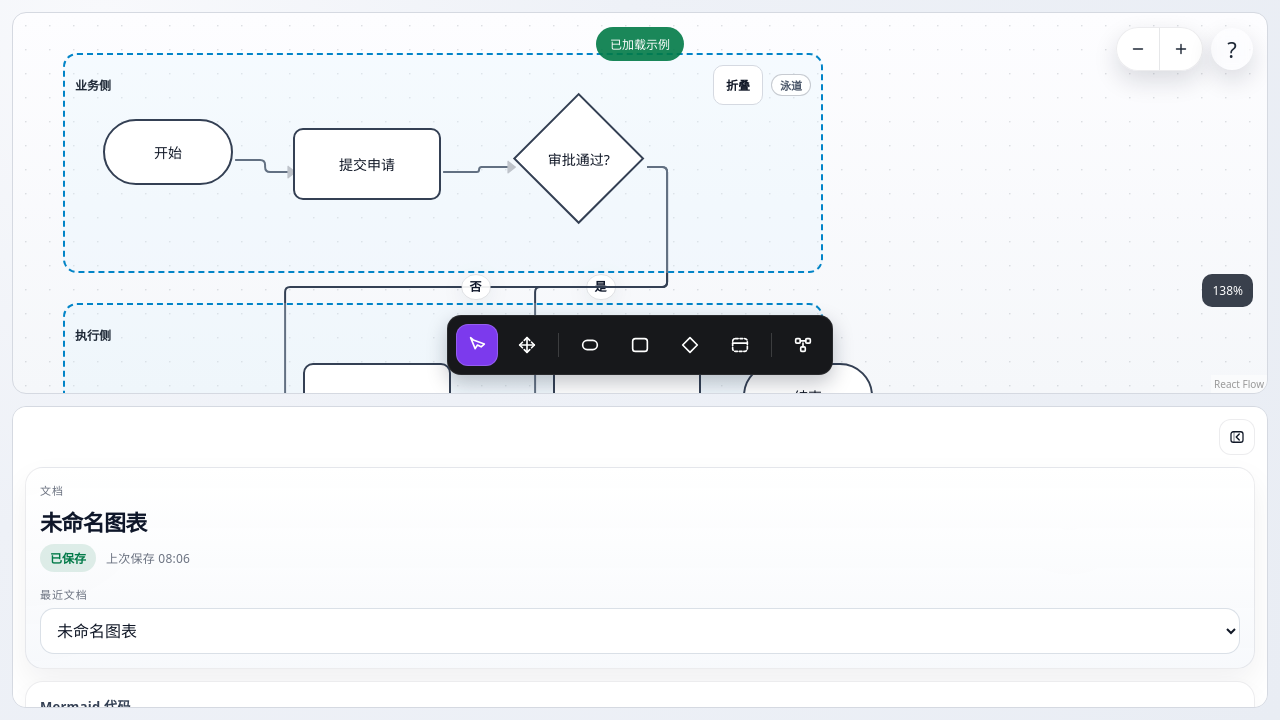
Test: App › arms swimlane drawing mode from the bottom toolbar
Click the button named "泳道" at (740, 345), box [719,324,761,366]
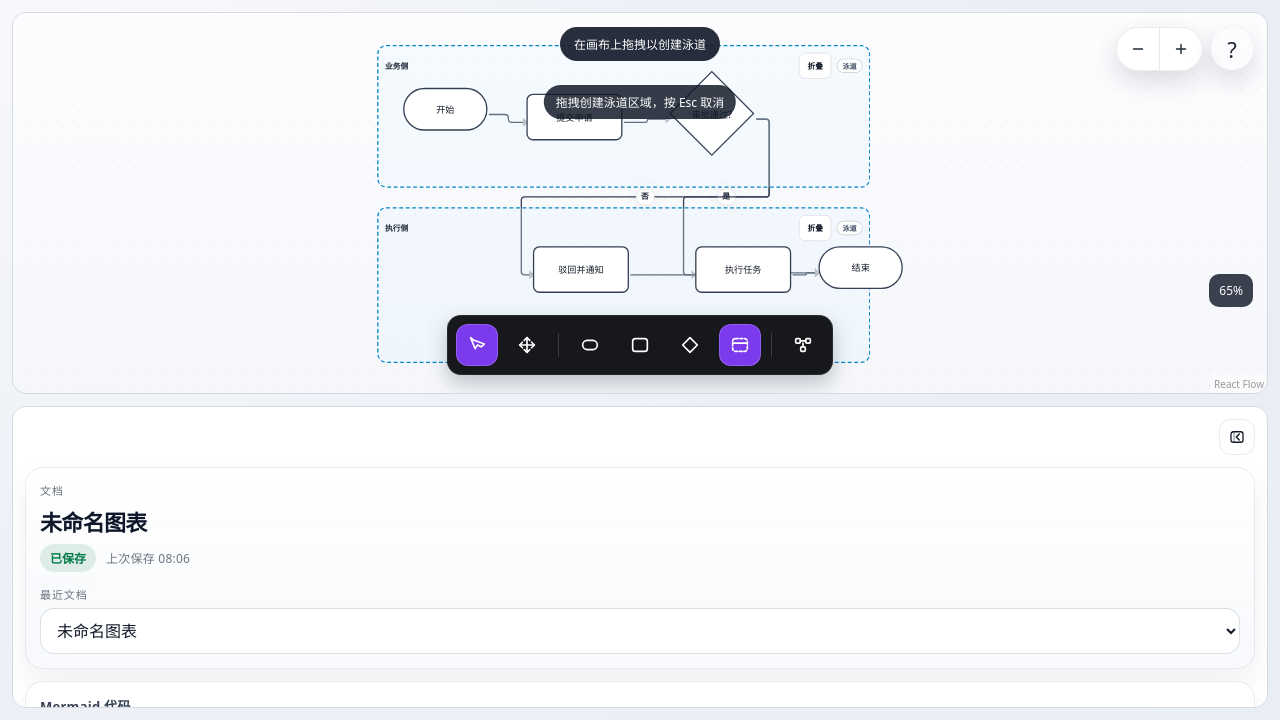
expect the text "拖拽创建泳道区域，按 Esc 取消" is shown: met, box [544,85,736,119]
